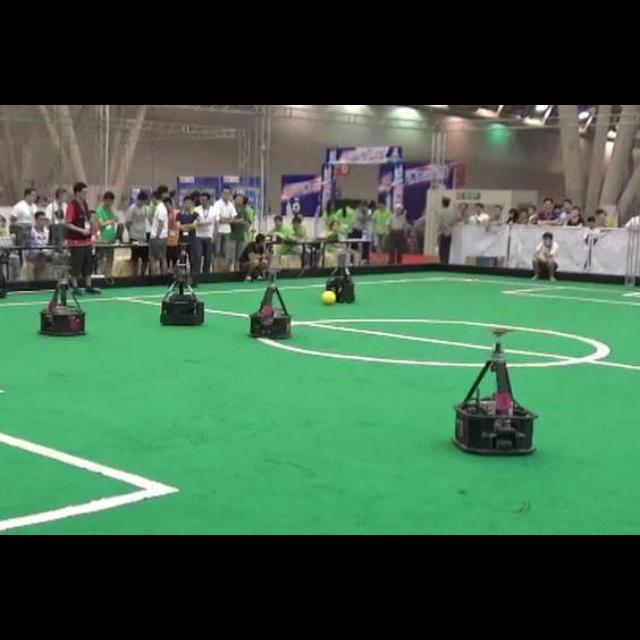ball: (321, 290, 335, 304)
robot: (454, 343, 536, 453), (40, 281, 84, 334), (250, 285, 289, 338), (160, 279, 203, 324), (326, 267, 354, 302)
